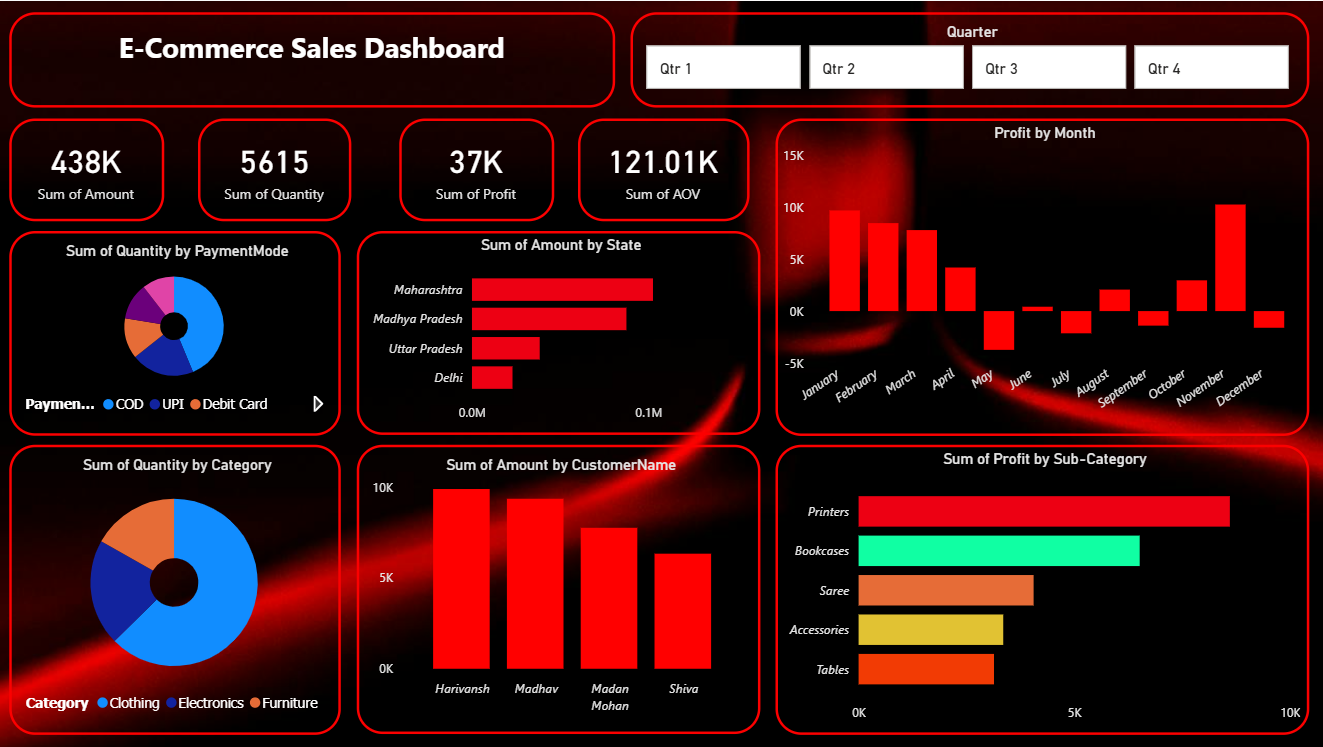

The page's visual inventory and layout, read from the dashboard file:
{"tool":"powerbi","page":{"name":"Page 1","canvas":[1280,720],"ordinal":0},"visuals":[{"type":"textbox","box":[10.9,10.9,585.1,91.7],"z":0},{"type":"columnChart","title":"Profit by Month","fields":{"Y":["Details.Profit"],"Category":["Orders.Order Date.Variation.Date Hierarchy.Month"]},"box":[750.4,113.4,515.2,306.4],"z":1000},{"type":"barChart","fields":{"Category":["Details.Sub-Category"],"Y":["Details.Profit"]},"box":[750.8,427.9,515.4,279.9],"z":2000},{"type":"donutChart","fields":{"Category":["Details.Category"],"Y":["Details.Quantity"]},"box":[10.9,428.3,319.7,279.9],"z":3000},{"type":"donutChart","fields":{"Category":["Details.PaymentMode"],"Y":["Details.Quantity"]},"box":[10.9,222,319.7,197.9],"z":4000},{"type":"card","fields":{"Values":["Details.Amount"]},"box":[10.9,113.4,149.6,98.9],"z":5000},{"type":"card","fields":{"Values":["Details.Quantity"]},"box":[193,113.4,148.4,98.9],"z":6000},{"type":"card","fields":{"Values":["Details.Profit"]},"box":[387.3,113.4,149.6,98.9],"z":7000},{"type":"card","fields":{"Values":["Details.Avg Order Value(AOV)"]},"box":[559.8,113.4,165.3,98.9],"z":8000},{"type":"barChart","fields":{"Category":["Orders.State"],"Y":["Details.Amount"]},"box":[346.2,222,389.7,197],"z":9000},{"type":"columnChart","fields":{"Category":["Orders.CustomerName"],"Y":["Details.Amount"]},"box":[346.2,428.3,389.7,279],"z":10000},{"type":"advancedSlicerVisual","fields":{"Values":["Orders.Order Date.Variation.Date Hierarchy.Quarter"]},"box":[610.5,10.9,655.1,91.7],"z":11000}]}

Visuals, with their boxes in screenshot pixels (x1, y1, x2, y2), scaled from the page's 1280x720 canvas onto the 1323x747 screenshot:
textbox: x1=11 y1=11 x2=616 y2=106
"Profit by Month" columnChart: x1=776 y1=118 x2=1308 y2=436
barChart - Details.Sub-Category x Details.Profit: x1=776 y1=444 x2=1309 y2=734
donutChart - Details.Category x Details.Quantity: x1=11 y1=444 x2=342 y2=735
donutChart - Details.PaymentMode x Details.Quantity: x1=11 y1=230 x2=342 y2=436
card - Details.Amount: x1=11 y1=118 x2=166 y2=220
card - Details.Quantity: x1=199 y1=118 x2=353 y2=220
card - Details.Profit: x1=400 y1=118 x2=555 y2=220
card - Details.Avg Order Value(AOV): x1=579 y1=118 x2=749 y2=220
barChart - Orders.State x Details.Amount: x1=358 y1=230 x2=761 y2=435
columnChart - Orders.CustomerName x Details.Amount: x1=358 y1=444 x2=761 y2=734
advancedSlicerVisual - Orders.Order Date.Variation.Date Hierarchy.Quarter: x1=631 y1=11 x2=1308 y2=106
